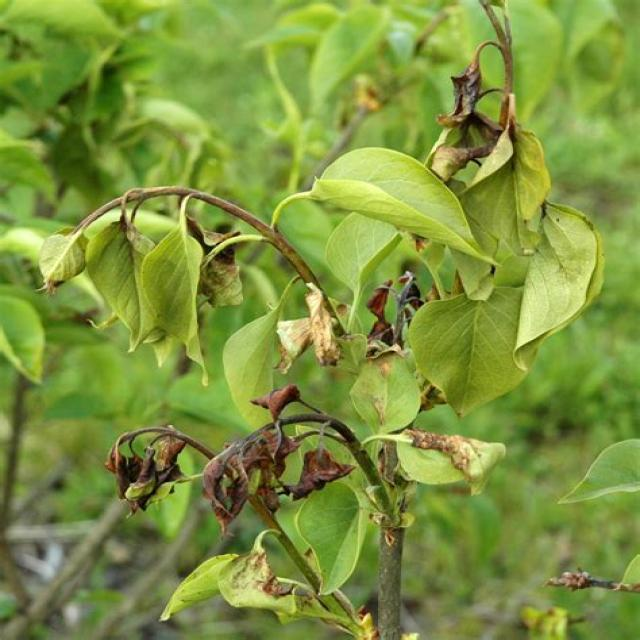blight: (268, 275, 350, 383), (443, 50, 514, 168), (404, 412, 478, 477)
